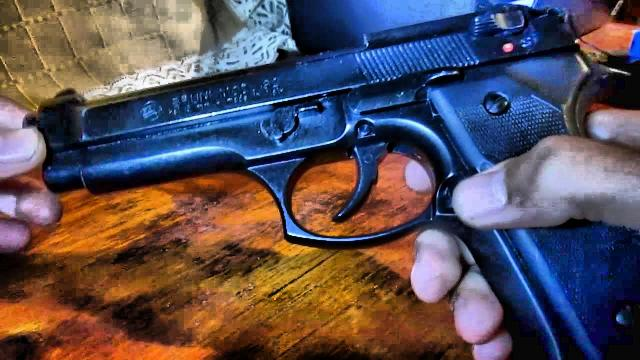pistol: (31, 8, 640, 356)
